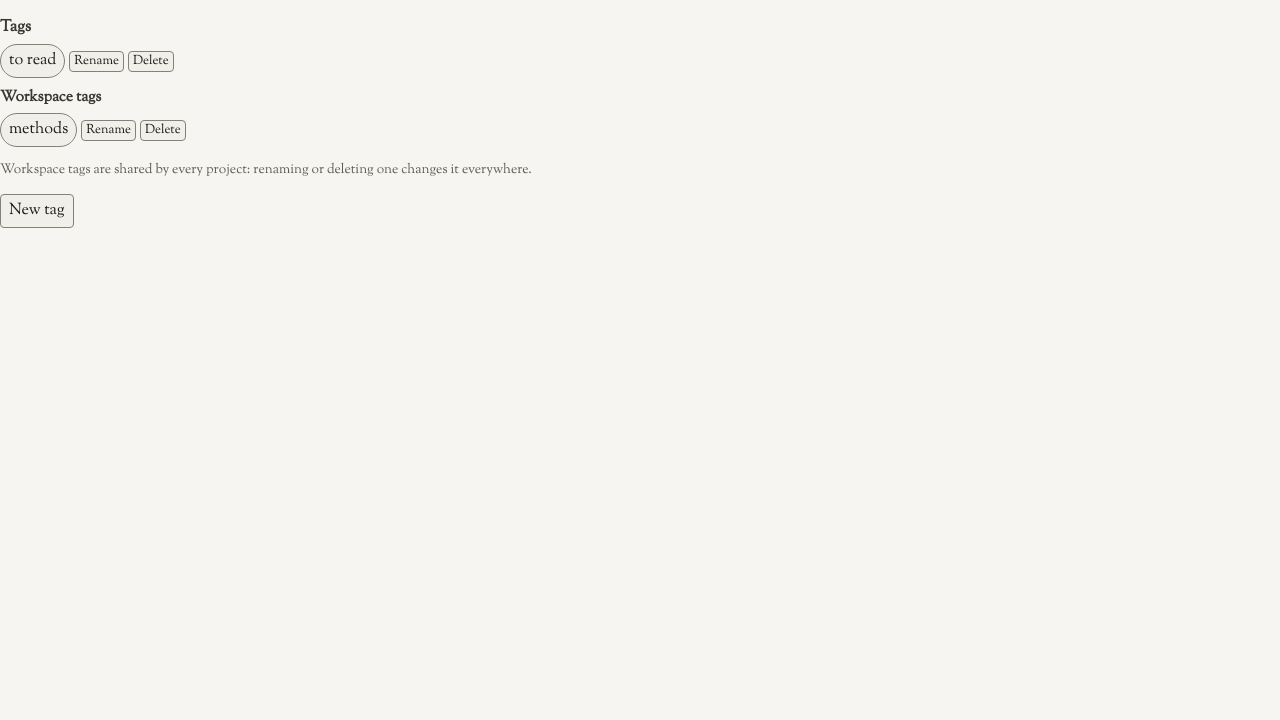
Test: TagList › cancelling a workspace tag's rename confirmation renames nothing (FR-165)
This screenshot has width=1280, height=720.
Click the button with aria-label "Rename workspace tag methods" at (109, 130), box [81, 120, 136, 141]
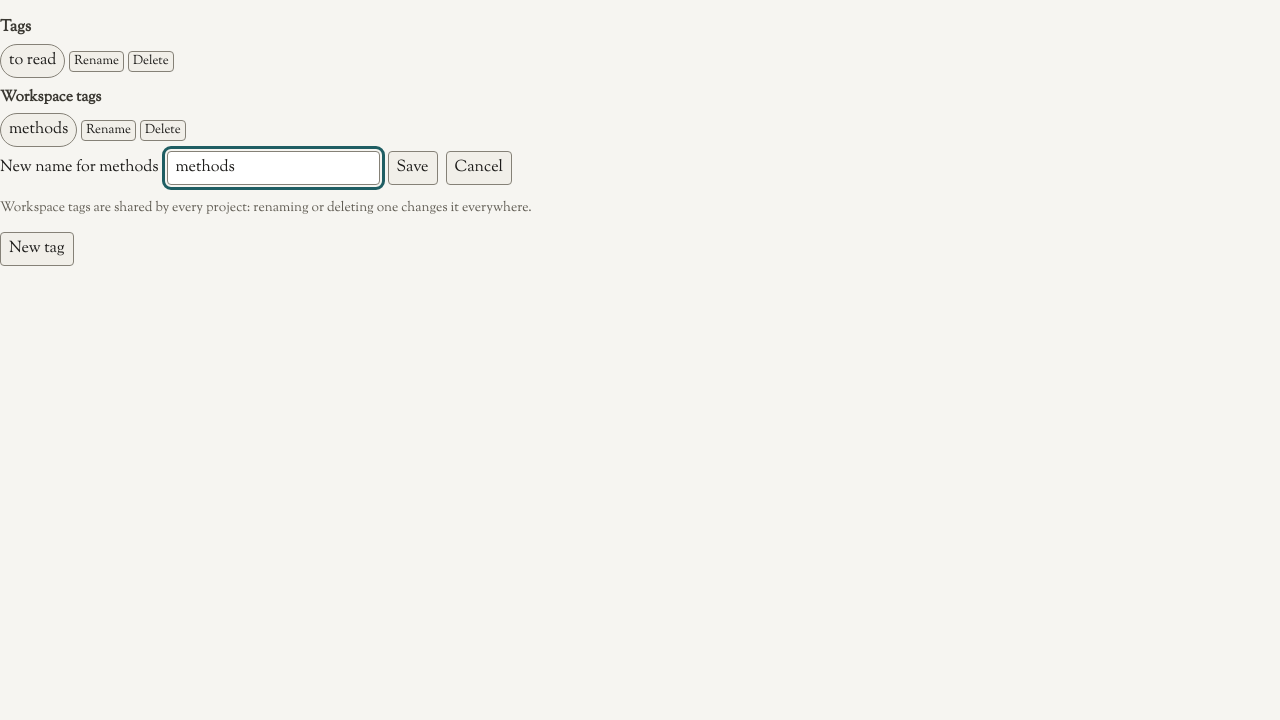
Replace the text in the field labelled "New name for methods" with "method" at (273, 168), box [166, 151, 380, 185]
Then press Enter
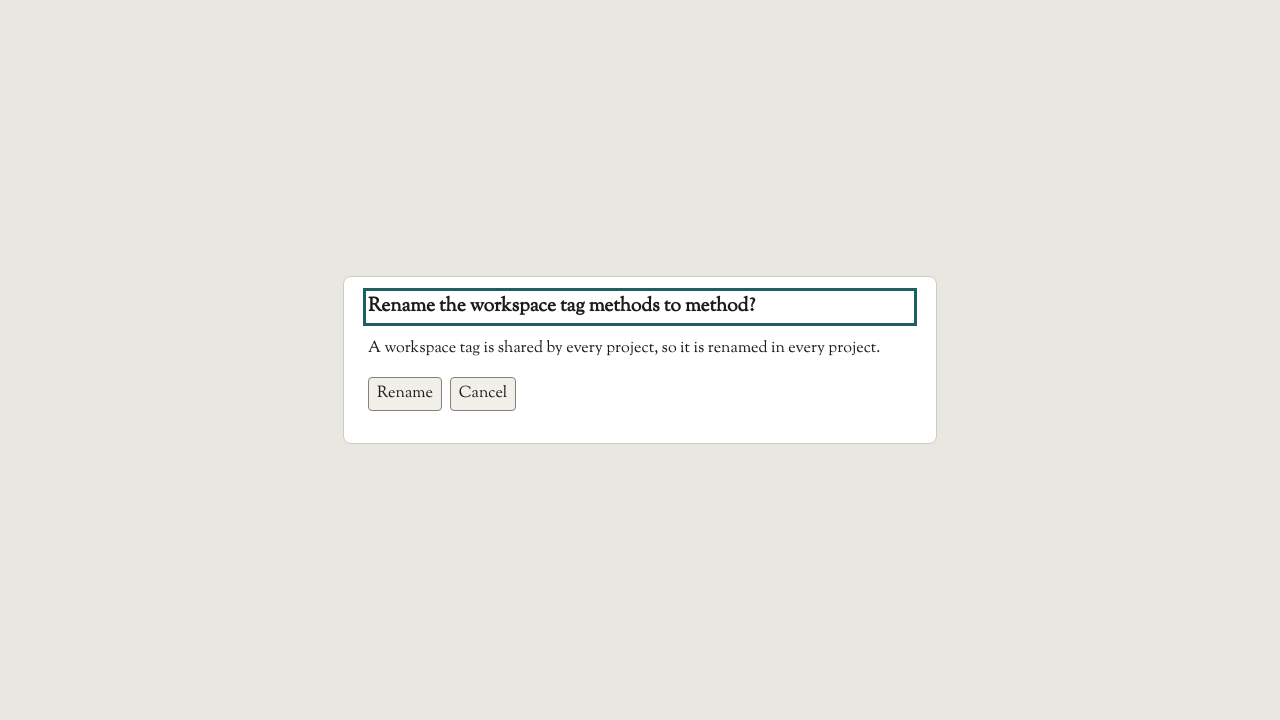
Click the button "Cancel" at (483, 394), box [450, 377, 516, 411]
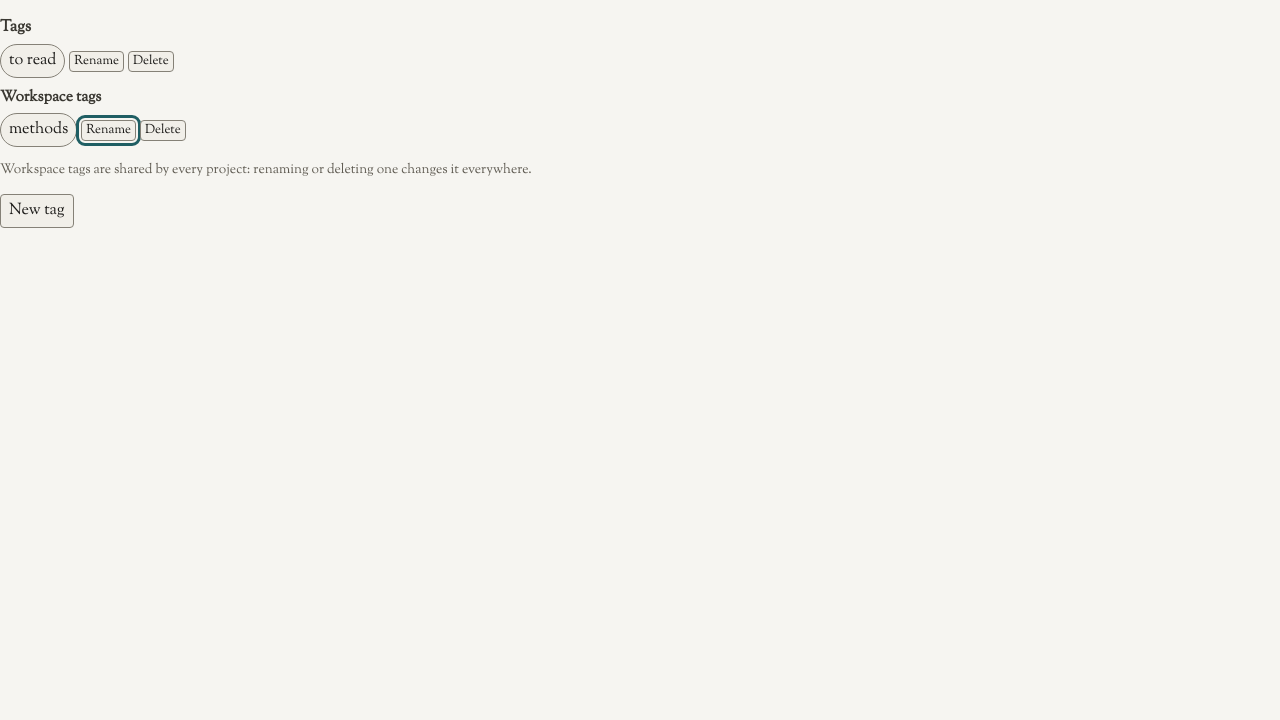
Expected: the dialog is gone
